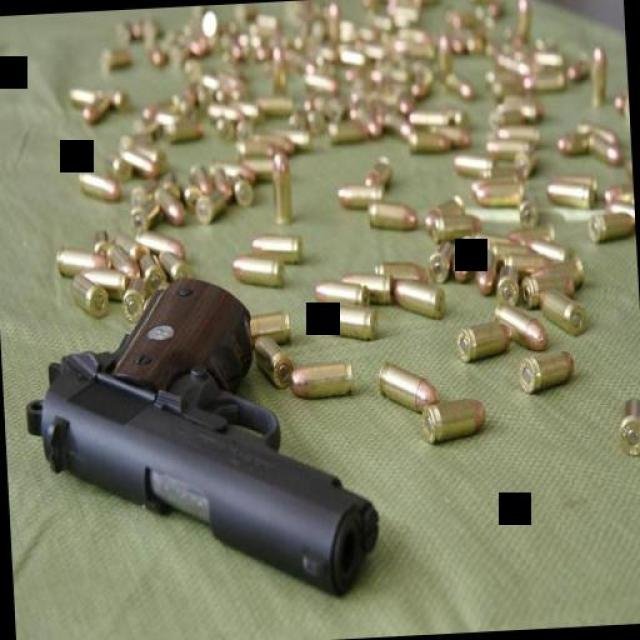gun: (12, 264, 382, 618)
